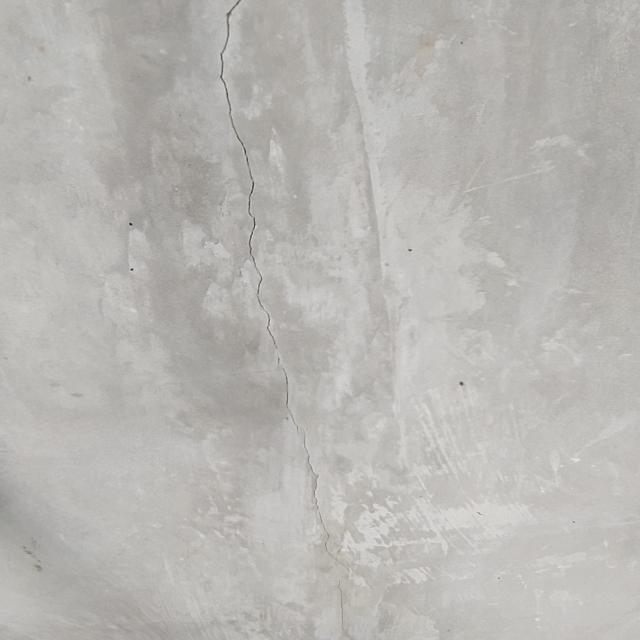Crack: (211, 1, 351, 574)
